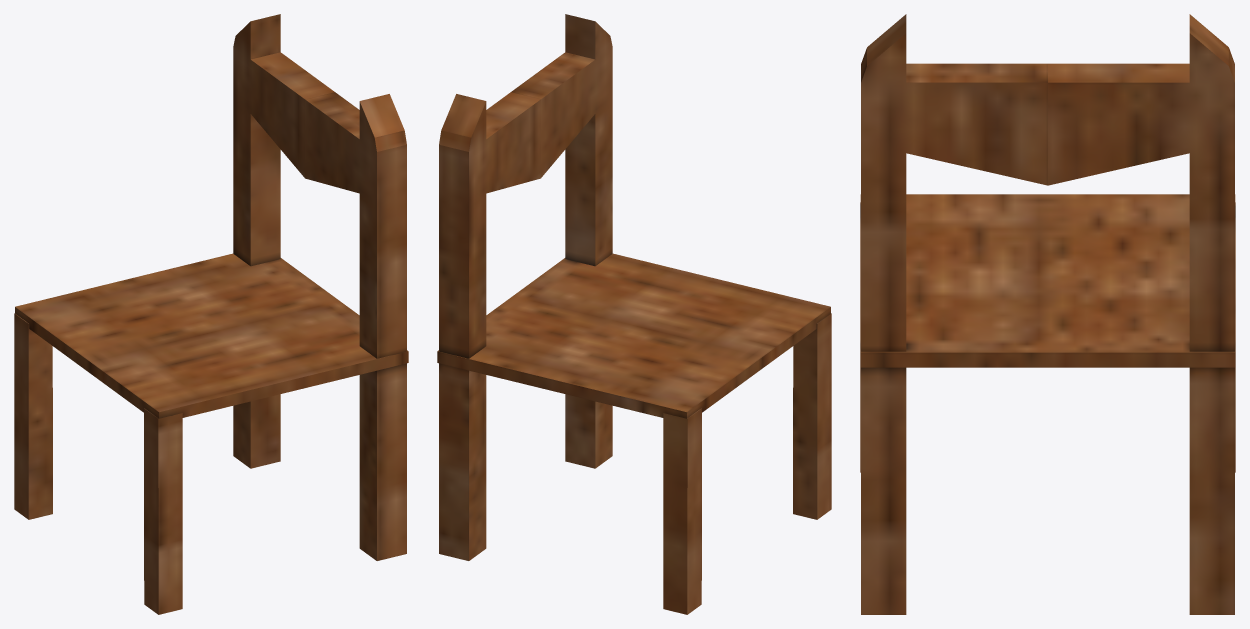
The model's file is chair.fbx.
The picture shows the model from 3 angles, left to right: view 1: azimuth 30°, elevation 25°; view 2: azimuth 150°, elevation 25°; view 3: azimuth 270°, elevation 25°; orthographic projection. The views are drawn at different scales.
Parts seen in each view (by area): view 1: chair; view 2: chair; view 3: chair.
Boxes of the visible parts, left/top/right/bottom form: chair: left=14, top=14, right=408, bottom=614; chair: left=437, top=14, right=831, bottom=614; chair: left=860, top=14, right=1235, bottom=614.
Bounding box in the file's own units: 7.08 × 12.1 × 7.06.
